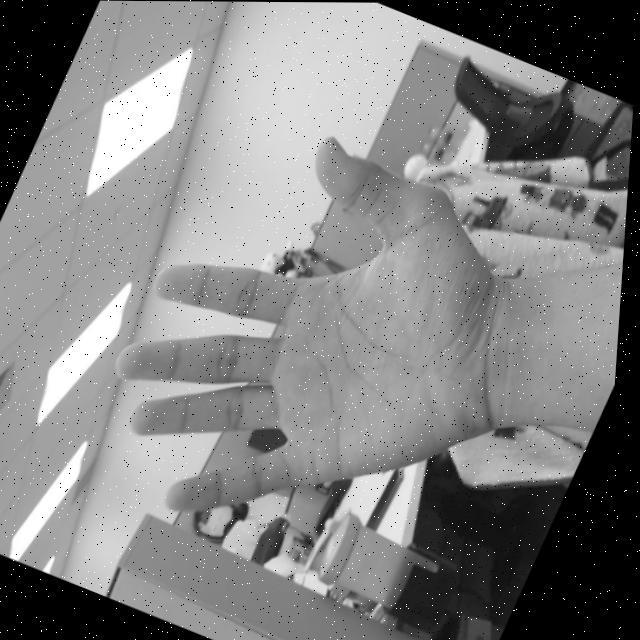no-gloves: (64, 89, 569, 599)
